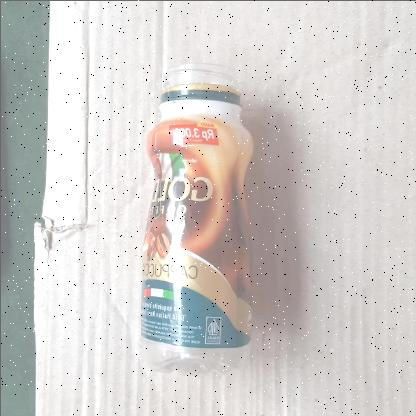Plastic Bottle: (134, 61, 256, 373)
